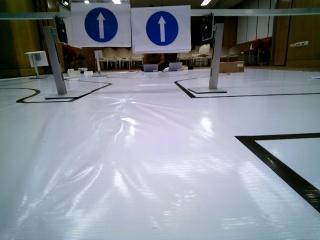straight: (131, 6, 194, 51), (73, 6, 129, 47)
